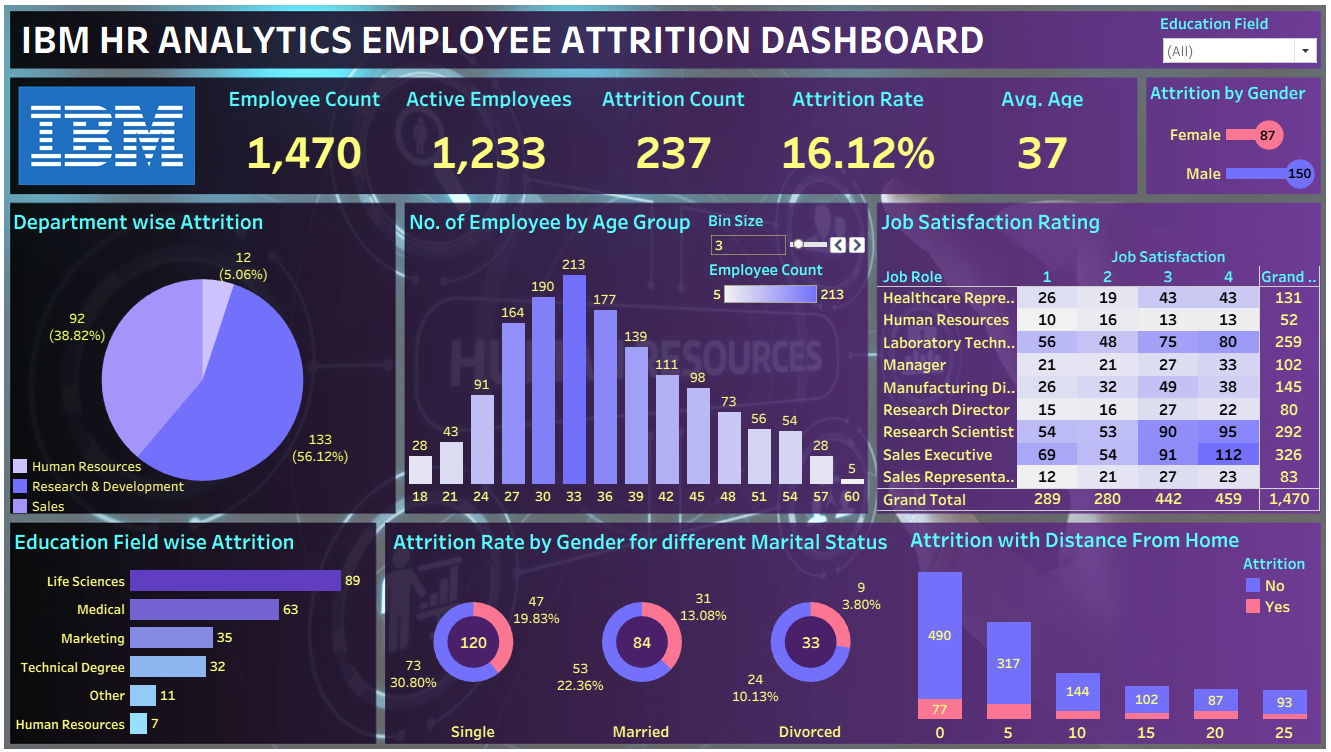

This screenshot's page, from the dashboard's own definition file:
{"tool":"tableau","page":{"name":"IBM HR ATTRITION ANALYTICS DASHBOARD","canvas":[1366,768],"ordinal":0},"visuals":[{"type":"image","param":"F:/Coding/1) Internship - Unified Mentor/Project List/1) My Unified Mentor Proje","box":[8,8,1350,752]},{"type":"text","box":[27,16,1310,58]},{"type":"filter","title":"Department wise Attrition","param":"[federated.03w2866194uuum1fr00j11y4mx1b].[none:EducationField:nk]","box":[1178,20,160,54]},{"type":"worksheet","title":"Attrition by Gender","mark":"Automatic","rows":["Gender"],"cols":["Calculation_0064070710034432","Calculation_0064070710034432"],"box":[1164,83,173,117]},{"type":"worksheet","title":"KPI","mark":"Automatic","box":[230,95,923,106]},{"type":"worksheet","title":"Department wise Attrition","mark":"Pie","box":[27,210,387,311]},{"type":"worksheet","title":"No. of Employee by Age Group","mark":"Automatic","rows":["EmployeeCount"],"cols":["Age (bin)"],"box":[423,210,463,303]},{"type":"worksheet","title":"Job Satisfaction Rating","mark":"Square","rows":["JobRole"],"cols":["JobSatisfaction"],"box":[895,210,443,308]},{"type":"parameter","param":"[Parameters].[Parameter 1]","box":[726,217,160,46]},{"type":"legend","title":"No. of Employee by Age Group","param":"[federated.03w2866194uuum1fr00j11y4mx1b].[sum:EmployeeCount:qk]","box":[727,266,140,52]},{"type":"legend","title":"Department wise Attrition","param":"[federated.03w2866194uuum1fr00j11y4mx1b].[none:Department:nk]","box":[28,463,179,61]},{"type":"worksheet","title":"Attrition with Distance From Home","mark":"Bar","rows":["EmployeeCount"],"cols":["Distance From Home (bin)"],"box":[924,528,413,223]},{"type":"worksheet","title":"Education Field wise Attrition","mark":"Automatic","rows":["EducationField"],"cols":["Calculation_0064070710034432"],"box":[28,530,366,215]},{"type":"worksheet","title":"Attrition Rate by Gender for different Marital Status","mark":"Pie","rows":["Calculation_0066270435917825","Calculation_0066270435917825"],"cols":["MaritalStatus"],"box":[407,530,506,220]},{"type":"legend","title":"Attrition with Distance From Home","param":"[federated.03w2866194uuum1fr00j11y4mx1b].[none:Attrition:nk]","box":[1261,560,77,64]}]}

Visuals, with their boxes in screenshot pixels (x1, y1, x2, y2), scaled from the page's 1366x768 canvas onto the 1331x752 screenshot:
image: 8 8 1323 744
text: 26 16 1303 72
"Department wise Attrition" filter: 1148 20 1304 72
"Attrition by Gender" worksheet: 1134 81 1303 196
"KPI" worksheet: 224 93 1123 197
"Department wise Attrition" worksheet (Pie marks): 26 206 403 510
"No. of Employee by Age Group" worksheet: 412 206 863 502
"Job Satisfaction Rating" worksheet (Square marks): 872 206 1304 507
parameter: 707 212 863 258
"No. of Employee by Age Group" legend: 708 260 845 311
"Department wise Attrition" legend: 27 453 202 513
"Attrition with Distance From Home" worksheet (Bar marks): 900 517 1303 735
"Education Field wise Attrition" worksheet: 27 519 384 729
"Attrition Rate by Gender for different Marital Status" worksheet (Pie marks): 397 519 890 734
"Attrition with Distance From Home" legend: 1229 548 1304 611
